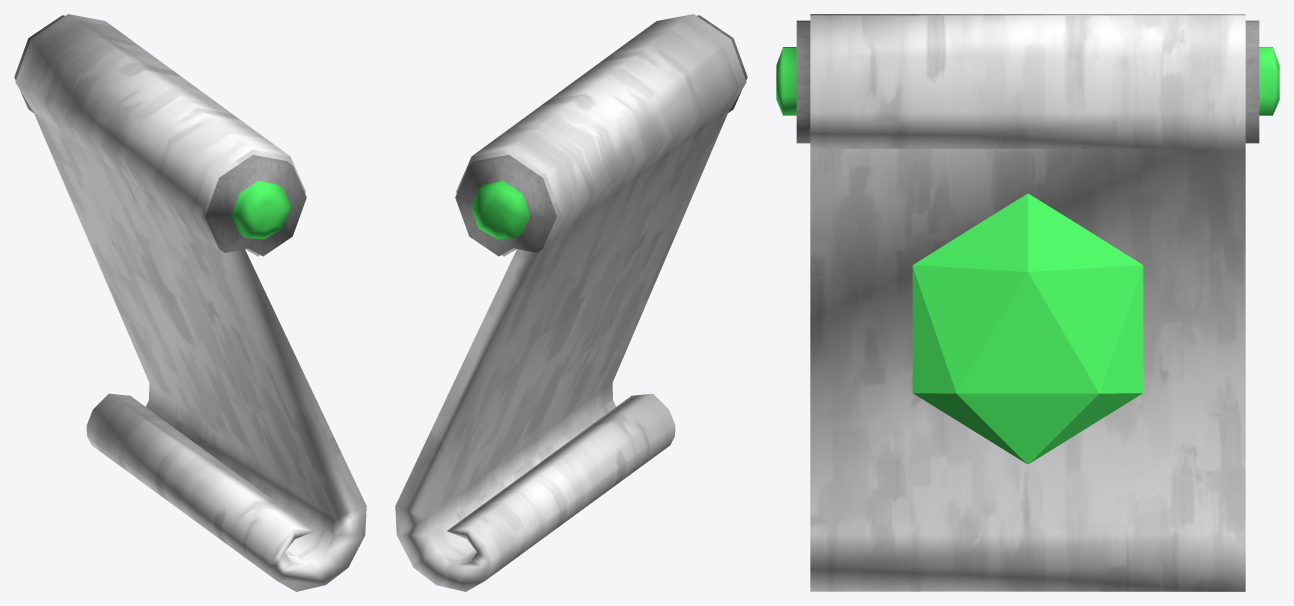
Rendered from item_recipe_gem_emerald.fbx.
The picture shows the model from 3 angles, left to right: view 1: azimuth 30°, elevation 25°; view 2: azimuth 150°, elevation 25°; view 3: azimuth 270°, elevation 25°; orthographic projection. The views are drawn at different scales.
Parts seen in each view (by area): view 1: Emerald; view 2: Emerald; view 3: Emerald.
Boxes of the visible parts, box(x1,y1,x2,y2) form: Emerald: box(14, 14, 366, 591); Emerald: box(395, 14, 747, 591); Emerald: box(776, 14, 1279, 591).
Bounding box in the file's own units: 83.18 × 216 × 185.
4 materials, 2 textured.
